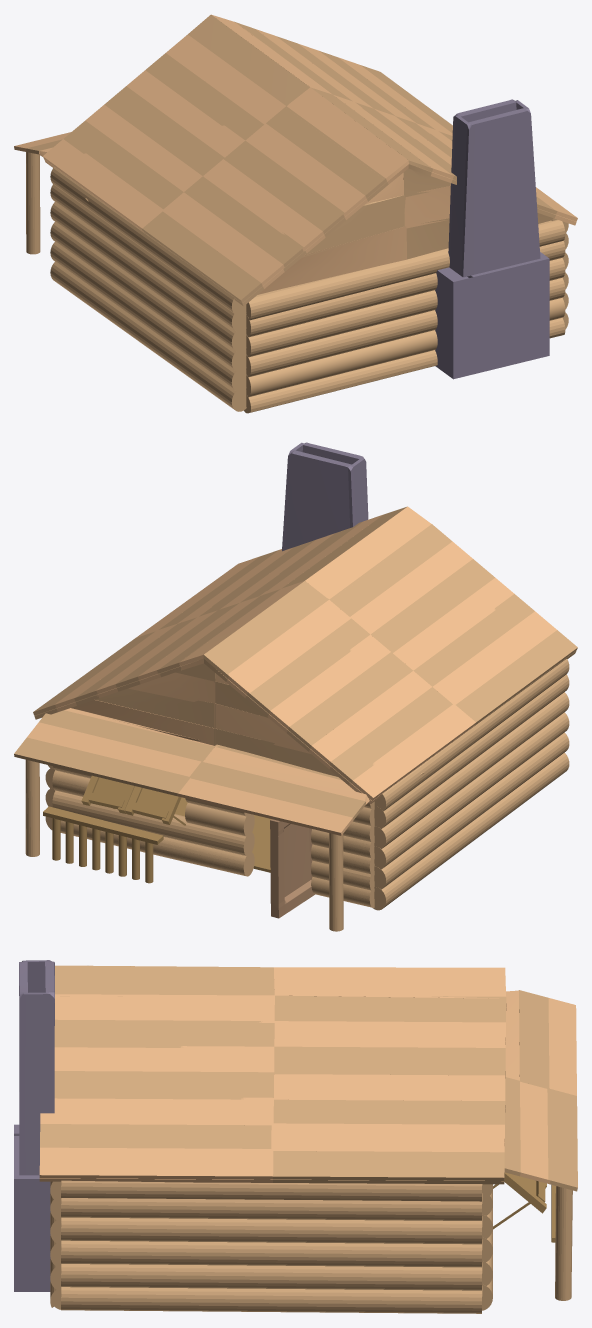
File: casa3.gltf
3 renders of one model, top to bottom at view 1: azimuth 30°, elevation 25°; view 2: azimuth 150°, elevation 25°; view 3: azimuth 270°, elevation 25°, orthographic. The views are drawn at different scales.
Parts seen in each view (by area): view 1: casa1c; view 2: casa1c; view 3: casa1c.
Boxes of the visible parts, left/top/right/bottom form: casa1c: left=14, top=14, right=577, bottom=413; casa1c: left=14, top=442, right=577, bottom=931; casa1c: left=14, top=960, right=577, bottom=1313.
Size of what is drawn, in the model's own units: 9.07 by 6.43 by 11.23.
